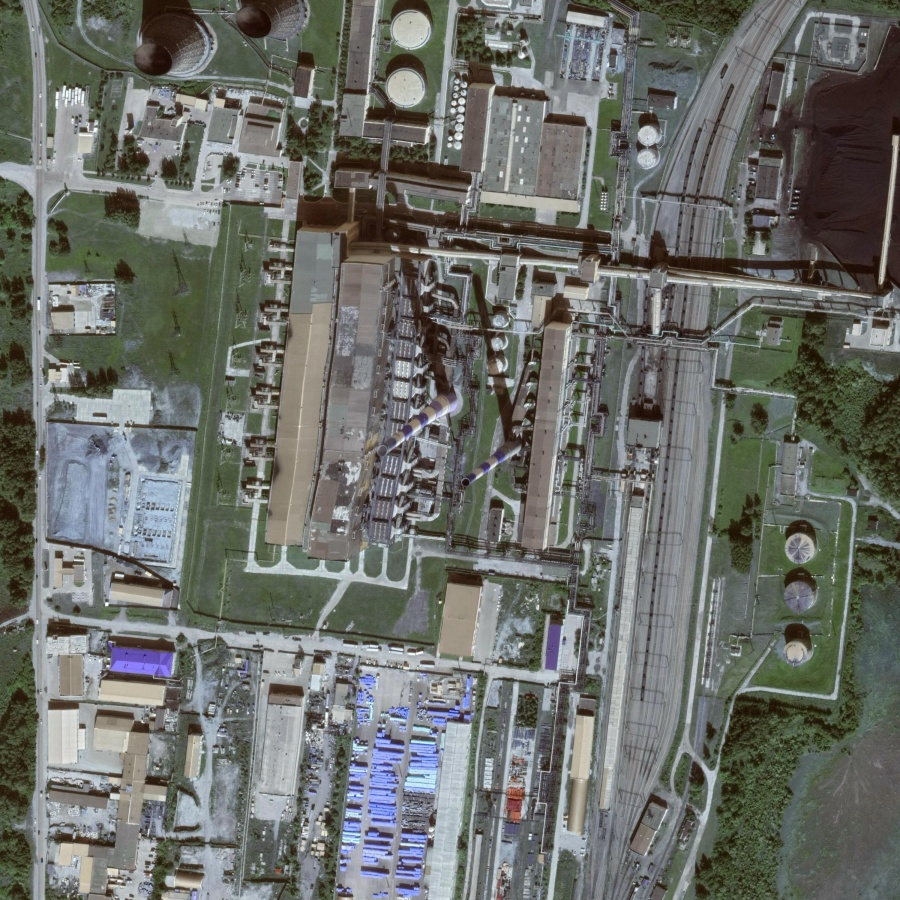PowerPlant: (346, 189, 600, 517), (706, 506, 854, 681)
